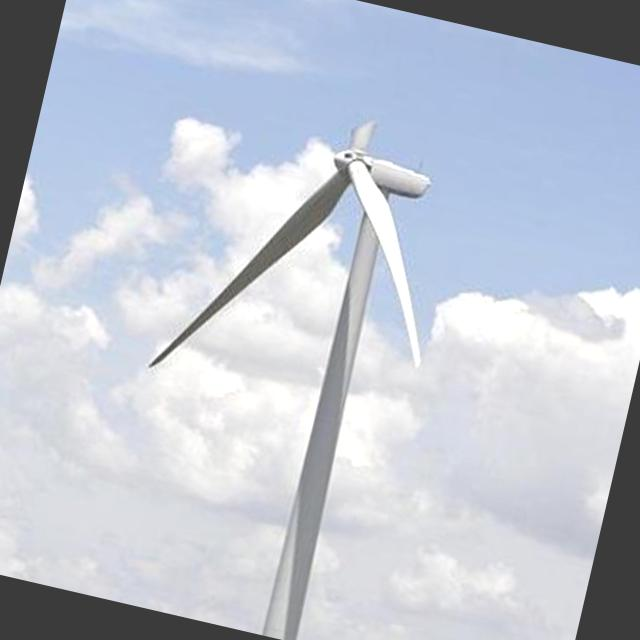crack: (343, 105, 386, 146)
